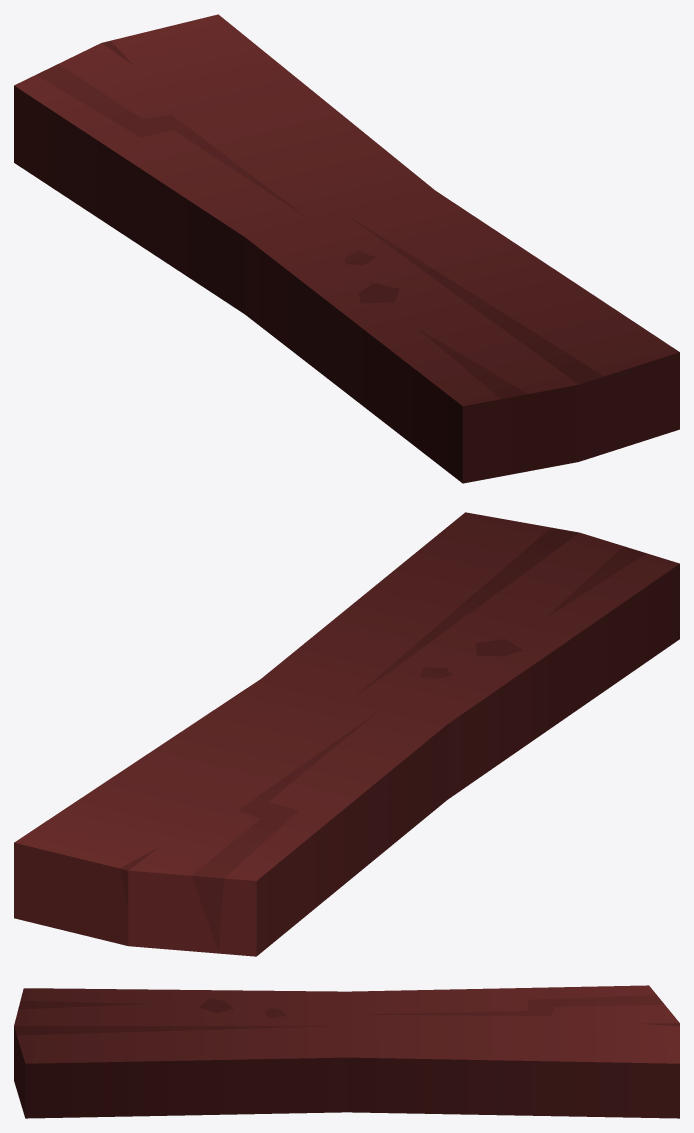
File: wood_2.glb
3 renders of one model, top to bottom at view 1: azimuth 30°, elevation 25°; view 2: azimuth 150°, elevation 25°; view 3: azimuth 270°, elevation 25°, orthographic. The views are drawn at different scales.
Visible parts, largest first — view 1: wood_2; view 2: wood_2; view 3: wood_2.
Boxes of the visible parts, box(x1,y1,x2,y2) form: wood_2: box(14, 14, 679, 483); wood_2: box(14, 512, 679, 956); wood_2: box(14, 985, 679, 1118).
Bounding box in the file's own units: 0.549 × 0.1792 × 1.97.
1 material, 1 textured.
